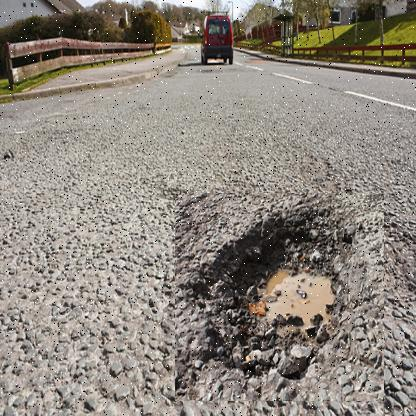pothole: (174, 193, 384, 402)
